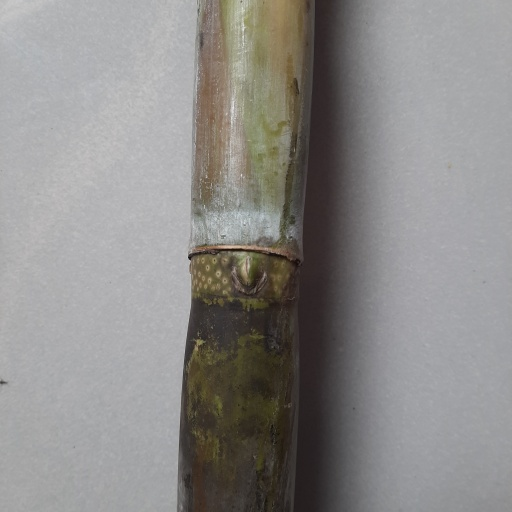Bud: (232, 256, 266, 291)
